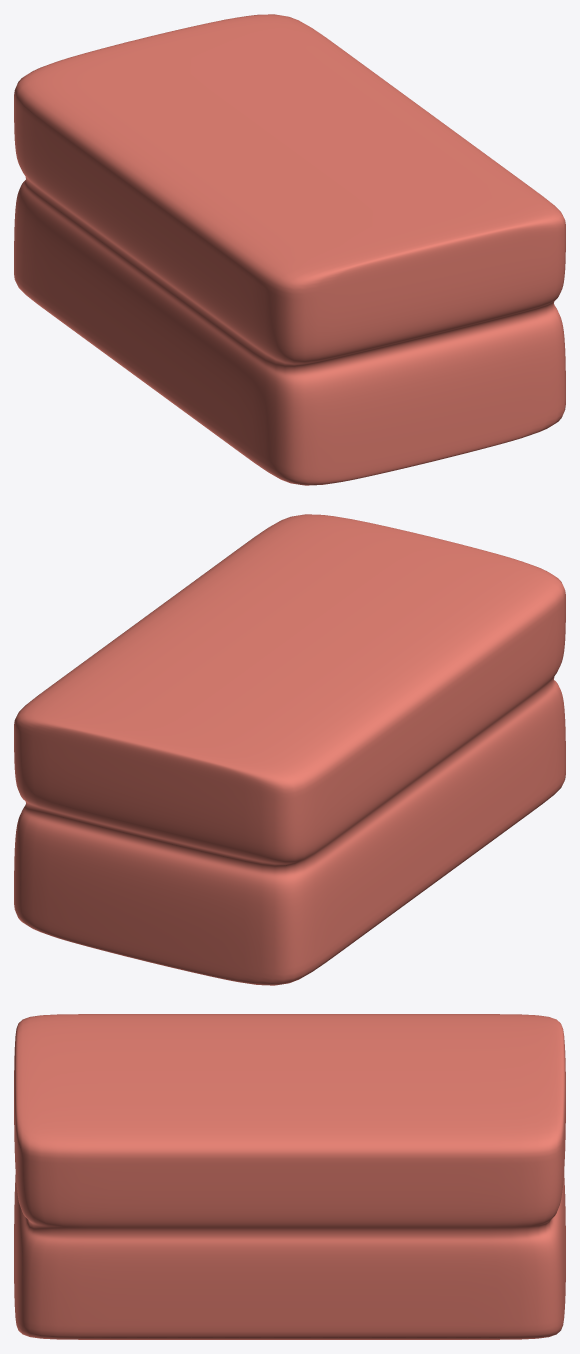
Rendered from bulto1.fbx.
The picture shows the model from 3 angles, top to bottom: view 1: azimuth 30°, elevation 25°; view 2: azimuth 150°, elevation 25°; view 3: azimuth 270°, elevation 25°; orthographic projection. The views are drawn at different scales.
Parts seen in each view (by area): view 1: Cube; view 2: Cube; view 3: Cube.
Part boxes in pixels (left/top/right/bottom): Cube: left=14, top=14, right=565, bottom=485; Cube: left=14, top=514, right=565, bottom=985; Cube: left=14, top=1014, right=565, bottom=1339.
Size of the model in its own units: 114 by 81.56 by 195.
